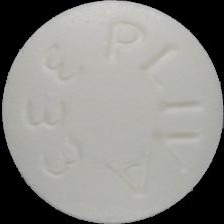21695-308: (0, 0, 224, 224)
